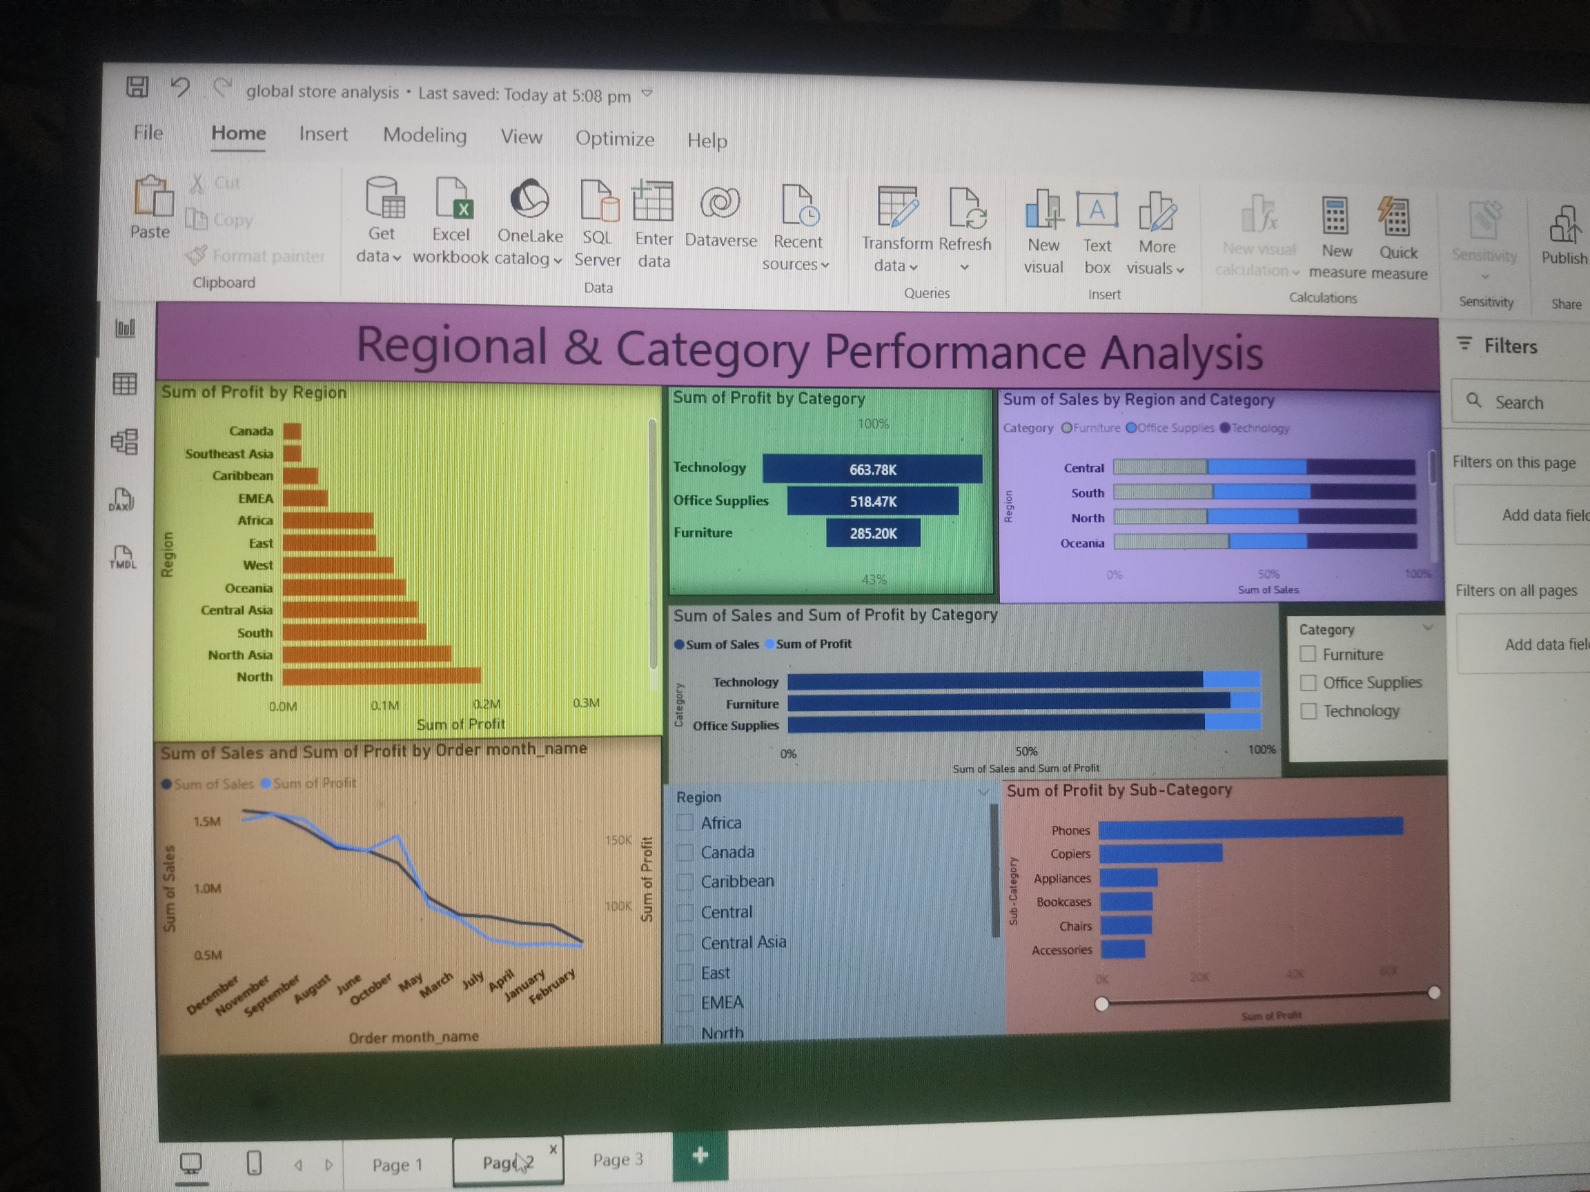

What the dashboard file says about the page in this screenshot:
{"tool":"powerbi","page":{"name":"Page 2","canvas":[1280,720],"ordinal":1},"visuals":[{"type":"clusteredBarChart","fields":{"Y":["Sum(cleaned_superstore_data.Profit)"],"Category":["cleaned_superstore_data.Sub-Category"]},"box":[817.8,469.3,462.4,251.1],"z":0},{"type":"clusteredBarChart","fields":{"Y":["Sum(cleaned_superstore_data.Profit)"],"Category":["cleaned_superstore_data.Region"]},"box":[1.4,76.8,480.3,344.4],"z":1000},{"type":"hundredPercentStackedBarChart","fields":{"Y":["Sum(cleaned_superstore_data.Sales)"],"Category":["cleaned_superstore_data.Region"],"Series":["cleaned_superstore_data.Category"]},"box":[817.8,76.8,462.4,216.8],"z":2000},{"type":"lineChart","fields":{"Y":["Sum(cleaned_superstore_data.Sales)"],"Category":["cleaned_superstore_data.Order month_name"],"Y2":["Sum(cleaned_superstore_data.Profit)"]},"box":[1.4,421.3,478.9,299.1],"z":3000},{"type":"slicer","fields":{"Values":["cleaned_superstore_data.Category"]},"box":[1111.5,307.4,168.8,146.8],"z":4000},{"type":"slicer","fields":{"Values":["cleaned_superstore_data.Region"]},"box":[481.6,469.3,337.6,251.1],"z":5000},{"type":"textbox","box":[1.4,0,1278.9,76.8],"z":7000},{"type":"funnel","fields":{"Category":["cleaned_superstore_data.Category"],"Y":["Sum(cleaned_superstore_data.Profit)"]},"box":[487.1,76.8,326.6,207.2],"z":7001},{"type":"hundredPercentStackedBarChart","fields":{"Y":["Sum(cleaned_superstore_data.Sales)","Sum(cleaned_superstore_data.Profit)"],"Category":["cleaned_superstore_data.Category"]},"box":[487.1,293.7,616.1,175.6],"z":7002}]}

Visuals, with their boxes on the page's 1280x720 design canvas (x1, y1, x2, y2). These are canvas units, not pixel positions in the 1590x1192 screenshot, which may show the page scaled, cropped or inside an application window:
clusteredBarChart - Sum(cleaned_superstore_data.Profit) x cleaned_superstore_data.Sub-Category: bbox(818, 469, 1280, 720)
clusteredBarChart - Sum(cleaned_superstore_data.Profit) x cleaned_superstore_data.Region: bbox(1, 77, 482, 421)
hundredPercentStackedBarChart - Sum(cleaned_superstore_data.Sales) x cleaned_superstore_data.Region: bbox(818, 77, 1280, 294)
lineChart - Sum(cleaned_superstore_data.Sales) x cleaned_superstore_data.Order month_name: bbox(1, 421, 480, 720)
slicer - cleaned_superstore_data.Category: bbox(1112, 307, 1280, 454)
slicer - cleaned_superstore_data.Region: bbox(482, 469, 819, 720)
textbox: bbox(1, 0, 1280, 77)
funnel - cleaned_superstore_data.Category x Sum(cleaned_superstore_data.Profit): bbox(487, 77, 814, 284)
hundredPercentStackedBarChart - Sum(cleaned_superstore_data.Sales) x Sum(cleaned_superstore_data.Profit): bbox(487, 294, 1103, 469)
